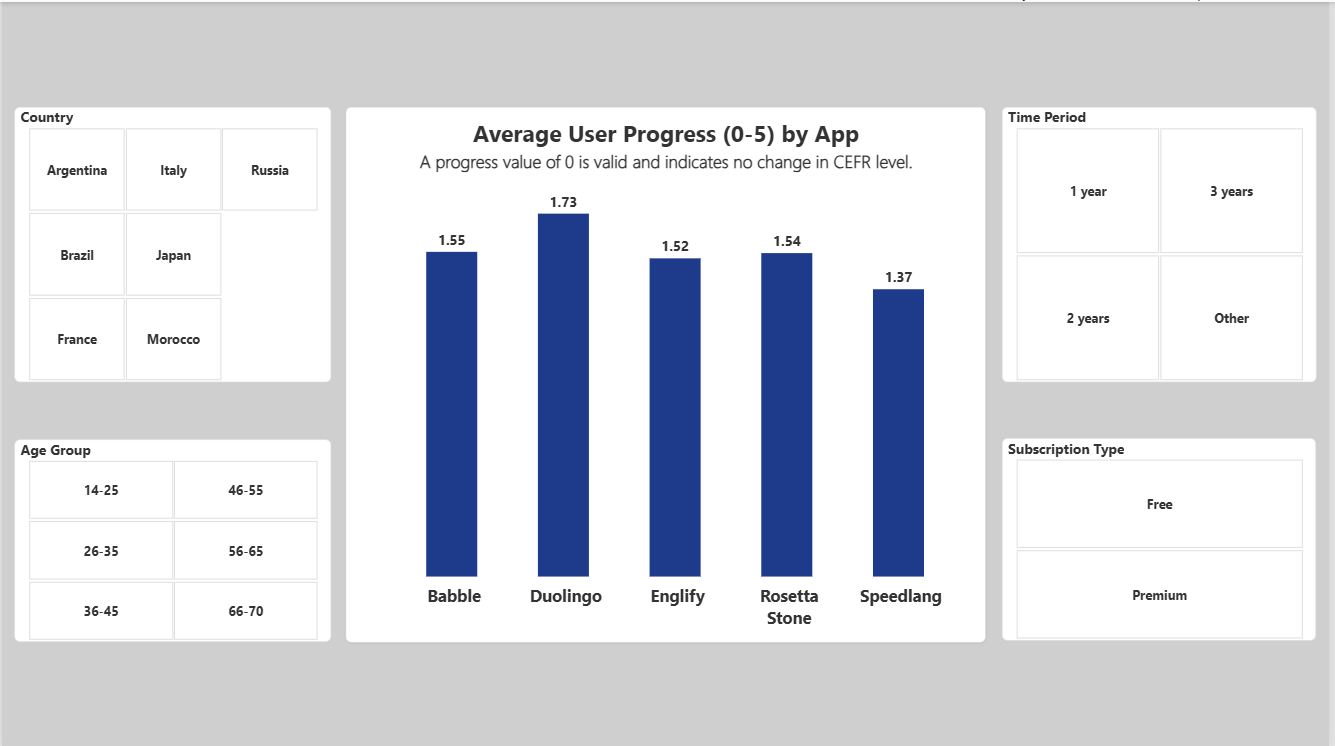

The dashboard page shown, as its layout file describes it:
{"tool":"powerbi","page":{"name":"Progress by App","canvas":[1920,1080],"ordinal":1},"visuals":[{"type":"columnChart","title":"Average User Progress (0-5) by App","fields":{"Category":["Apps Table.App"],"Y":["Measure Table.Avg Progess"]},"box":[497,152.5,926,775],"z":0},{"type":"slicer","fields":{"Values":["Users.Country"]},"box":[18.8,152.2,458.5,398.4],"z":1000},{"type":"slicer","fields":{"Values":["Users.Age Group"]},"box":[18.8,633.2,458.5,293.1],"z":2000},{"type":"slicer","fields":{"Values":["Users.Subscription Type"]},"box":[1446.9,631.4,454.7,293.1],"z":3000},{"type":"slicer","fields":{"Values":["Users.Time Period"]},"box":[1446.9,152.2,455,398],"z":4000}]}

Visuals, with their boxes in screenshot pixels (x1, y1, x2, y2), scaled from the page's 1920x1080 canvas onto the 1335x746 screenshot:
"Average User Progress (0-5) by App" columnChart: left=346, top=105, right=989, bottom=641
slicer - Users.Country: left=13, top=105, right=332, bottom=380
slicer - Users.Age Group: left=13, top=437, right=332, bottom=640
slicer - Users.Subscription Type: left=1006, top=436, right=1322, bottom=639
slicer - Users.Time Period: left=1006, top=105, right=1322, bottom=380
